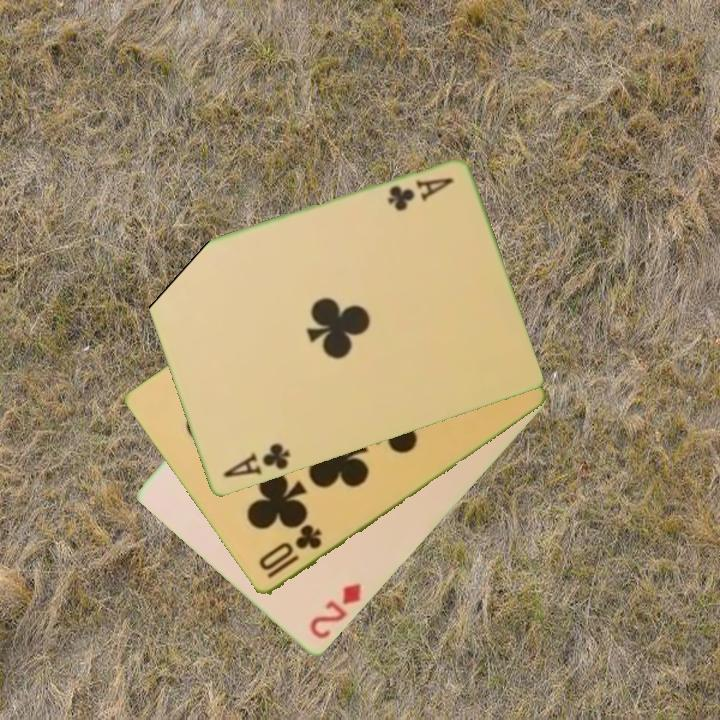10c: (255, 521, 325, 582)
2d: (306, 580, 365, 643)
Ac: (219, 440, 293, 481), (383, 174, 456, 215)
